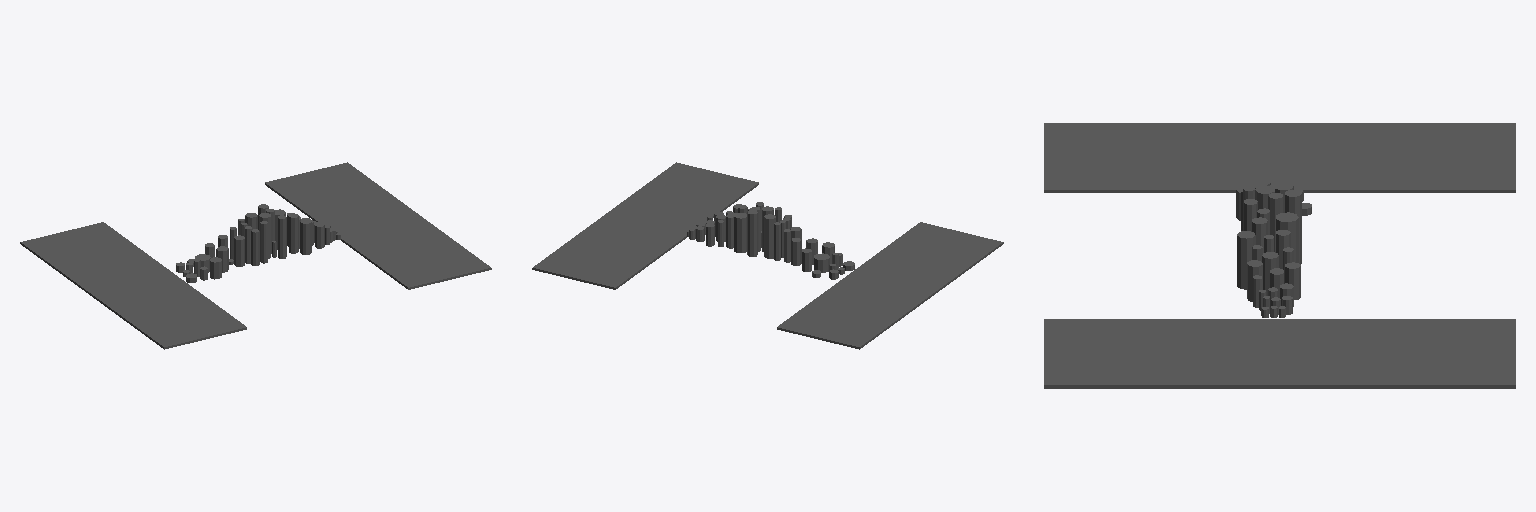
robot.urdf — lab_scene:
<?xml version="1.0" ?>
<robot name="lab_scene" xmlns:xacro="http://ros.org/wiki/xacro">
  <link name="base_link">
    <inertial>
      <mass value="200" />
      <inertia ixx="1.0" ixy="0.0" ixz="0.0" iyy="1.0" iyz="0.0" izz="1.0" />
    </inertial>
    <visual>
      <origin rpy="0 0 0" xyz="0 0 0"/>
      <geometry>
        <mesh filename="package://meshes/pylons.stl"/>
      </geometry>
      <material name="">
        <color rgba="0.4 0.4 0.4 1.0"/>
      </material>
    </visual>
    <collision concave="yes">
      <origin rpy="0 0 0" xyz="0 0 0"/>
      <geometry>
        <mesh filename="package://meshes/pylons.stl"/>
      </geometry>
    </collision>
  </link>
  <gazebo>
    <static>1</static>
  </gazebo>
</robot>

--- Facts derived from the render (not from the file) ---
3 views of the same robot in one strip: view 1: azimuth 30°, elevation 25°; view 2: azimuth 150°, elevation 25°; view 3: azimuth 270°, elevation 25° (orthographic).
Model lab_scene with 1 links and 0 joints (none), rooted at base_link, posed every joint at zero.
Visible links, largest first — view 1: base_link; view 2: base_link; view 3: base_link.
Boxes of the visible links, x1,y1,x2,y2 form: base_link: (20,162,491,349); base_link: (532,162,1003,349); base_link: (1044,123,1515,388).
Bounding box of the posed robot: 7.88 × 6 × 1.03 m (x, y, z).
1 mesh visuals loaded from 1 distinct referenced files (1 binary STL).